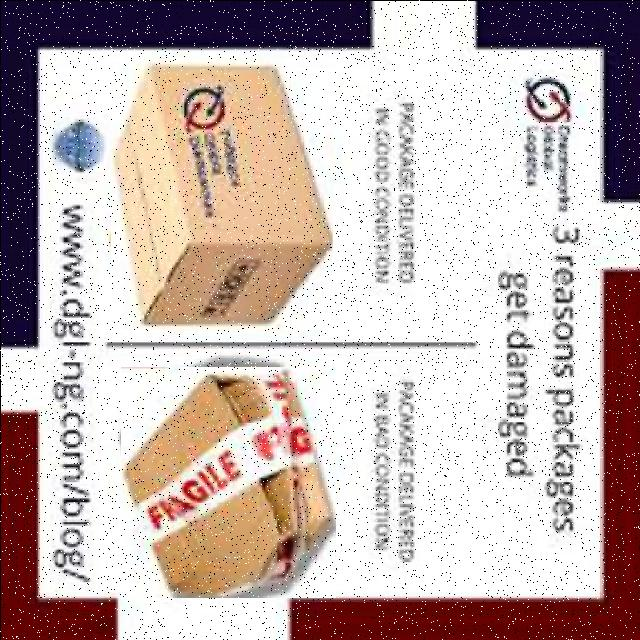defect: (120, 366, 335, 597)
normal: (110, 57, 332, 329)
